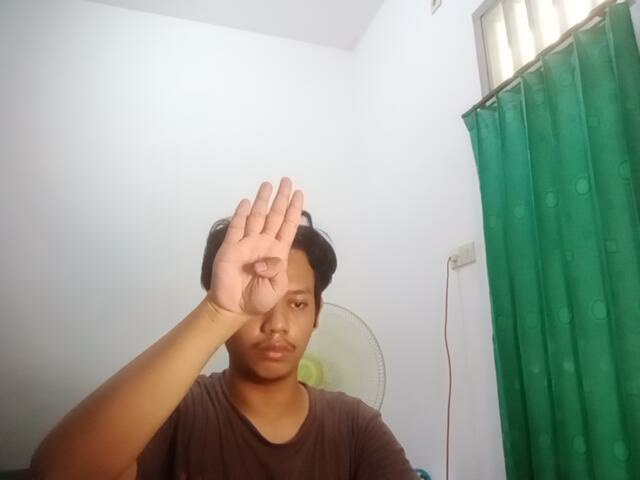B: (206, 173, 300, 324)
